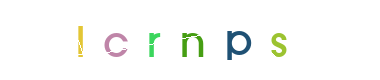C: (117, 0, 197, 80)
L: (109, 0, 189, 80)
N: (152, 0, 232, 80)
P: (159, 0, 239, 80)
R: (150, 0, 230, 80)
S: (197, 0, 277, 80)
